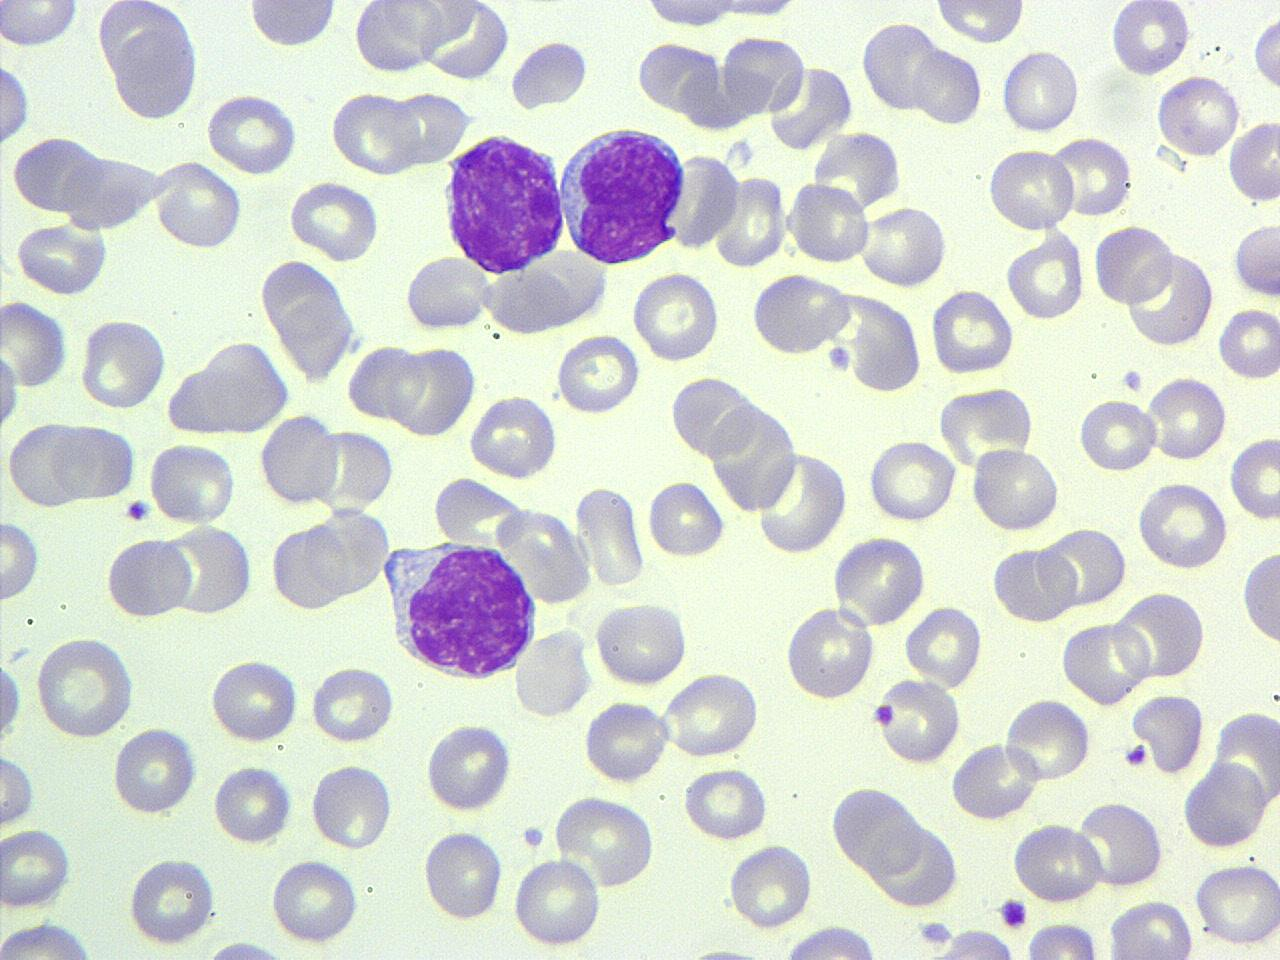Platelets: (688, 941, 759, 960), (917, 918, 954, 948), (998, 895, 1029, 930), (826, 342, 853, 374), (123, 497, 152, 524), (520, 824, 546, 852), (1123, 742, 1151, 768), (1120, 367, 1144, 393), (871, 702, 892, 726)
RBC: (256, 256, 363, 382), (162, 337, 295, 438), (33, 632, 140, 741), (552, 793, 658, 890), (754, 447, 850, 554), (708, 400, 797, 513), (110, 15, 201, 124), (830, 533, 928, 628), (1124, 247, 1214, 349), (658, 670, 762, 758), (160, 520, 254, 618), (782, 605, 876, 701), (510, 855, 604, 951), (77, 316, 169, 412), (630, 266, 722, 364), (386, 341, 477, 440), (592, 598, 691, 688), (828, 781, 923, 874), (1135, 478, 1231, 571), (124, 854, 218, 948), (750, 269, 851, 356), (208, 653, 302, 745), (1114, 586, 1206, 679), (152, 159, 245, 251), (865, 436, 959, 525), (968, 444, 1063, 532), (869, 817, 961, 909), (422, 720, 512, 814), (466, 392, 560, 481), (1074, 798, 1166, 888), (328, 90, 422, 177), (1181, 758, 1271, 850), (1060, 616, 1152, 706), (858, 201, 950, 289), (666, 147, 744, 253), (206, 90, 300, 176), (1004, 225, 1086, 324), (271, 856, 362, 946), (110, 724, 198, 817), (876, 674, 962, 768), (421, 826, 504, 924), (147, 438, 238, 526), (1002, 697, 1094, 785), (860, 18, 943, 114), (847, 293, 924, 396), (726, 840, 814, 930), (308, 760, 397, 850), (259, 410, 340, 508), (986, 144, 1075, 232), (416, 0, 511, 83), (102, 534, 190, 622), (1011, 819, 1103, 904), (286, 178, 379, 262), (988, 542, 1080, 624), (574, 482, 648, 586), (670, 372, 757, 460), (928, 286, 1015, 374), (554, 330, 642, 416), (581, 698, 669, 784), (1145, 372, 1229, 463), (512, 626, 595, 718), (1041, 522, 1127, 610), (1193, 860, 1279, 948), (1155, 73, 1241, 160), (13, 219, 110, 296), (270, 520, 349, 614), (720, 32, 807, 116), (312, 504, 389, 600), (316, 424, 397, 514), (309, 663, 397, 745), (1050, 133, 1134, 219), (210, 760, 293, 846), (950, 738, 1038, 820), (50, 419, 138, 501), (1000, 46, 1080, 135), (714, 172, 787, 269), (6, 419, 83, 512), (789, 178, 869, 267), (1094, 221, 1174, 308), (681, 762, 769, 842), (403, 252, 490, 332), (646, 477, 728, 561), (350, 1, 440, 75), (906, 604, 984, 690), (1076, 395, 1158, 475), (634, 36, 718, 113), (1108, 0, 1192, 76), (1, 296, 70, 389), (0, 825, 75, 910), (508, 37, 592, 110), (1132, 692, 1202, 776), (912, 45, 984, 128), (1106, 896, 1196, 958), (1215, 304, 1279, 383), (1228, 432, 1280, 522), (246, 0, 338, 51), (1226, 117, 1278, 203), (932, 0, 1025, 45), (1240, 545, 1280, 647), (774, 923, 887, 959), (0, 0, 80, 50), (1231, 220, 1279, 298), (0, 919, 96, 958), (0, 518, 41, 603), (926, 925, 1022, 960), (1024, 920, 1102, 960), (0, 53, 31, 151), (639, 0, 740, 30), (0, 750, 37, 826), (1250, 11, 1280, 94), (0, 335, 21, 438), (0, 655, 24, 743)
WBC: (378, 537, 542, 685), (556, 123, 689, 267), (440, 130, 568, 276), (165, 337, 293, 438), (260, 255, 365, 375), (102, 0, 204, 122), (311, 760, 401, 850)
